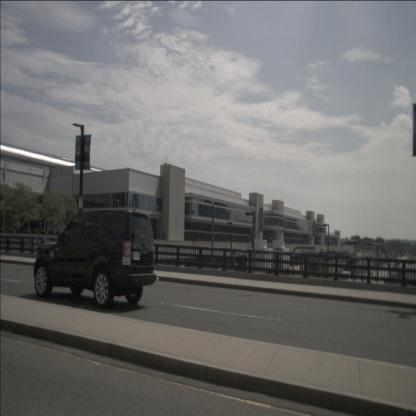vehicle-car: (34, 210, 156, 310)
